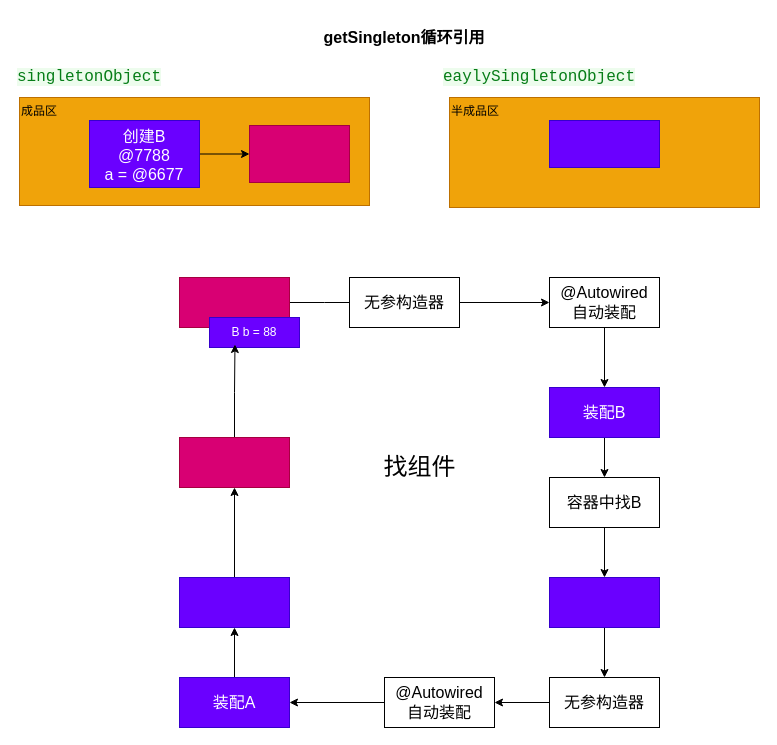
Image size: 777x745. Some labels were removed from this diagram. Here are the shapes that lost their labels. From the top down, the centre of each, then its label:
the point at 299,153: 创建A @6677 b = @7788
the point at 604,144: 没创建完成半成品都在这里
the point at 234,302: 创建A
the point at 234,462: A结束
the point at 234,602: B结束
the point at 604,602: 创建B
